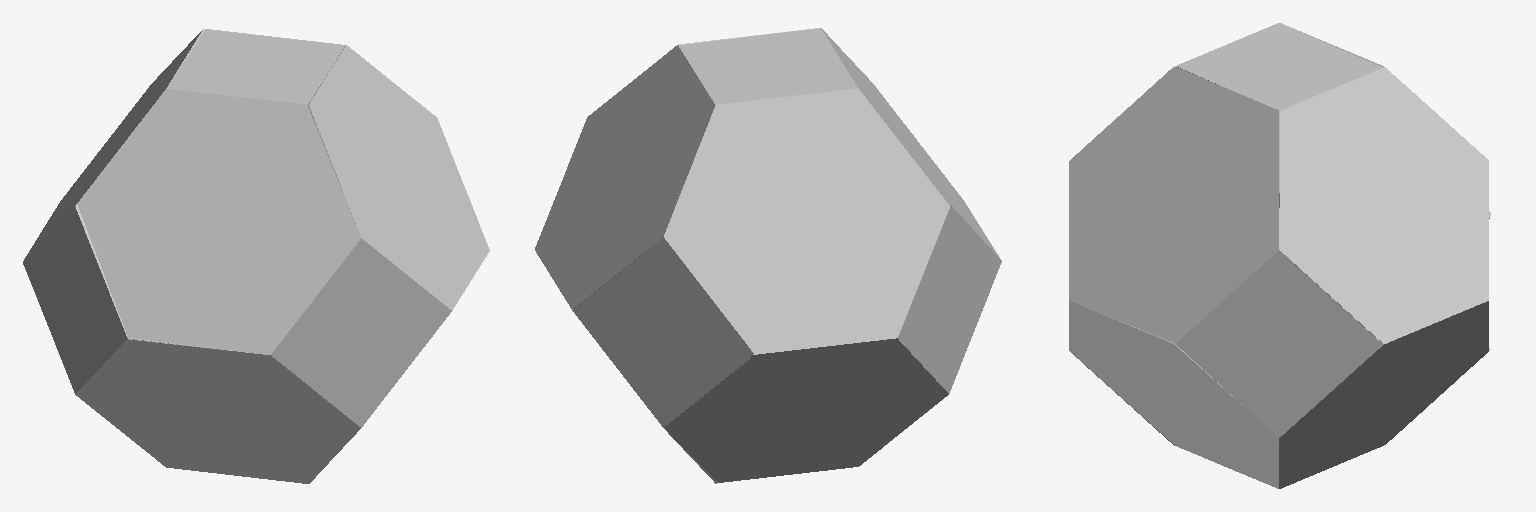
The model's file is octohedron.obj.
The picture shows the model from 3 angles: view 1: azimuth 30°, elevation 25°; view 2: azimuth 150°, elevation 25°; view 3: azimuth 270°, elevation 25°; orthographic projection.
Visible parts, largest first — view 1: ośmiosześcian; view 2: ośmiosześcian; view 3: ośmiosześcian.
Part boxes in pixels (x1,y1,x2,y2): ośmiosześcian: (23, 29, 489, 483); ośmiosześcian: (535, 28, 1001, 483); ośmiosześcian: (1069, 23, 1490, 488).
Bounding box in the file's own units: 0.3543 × 0.353 × 0.3557.